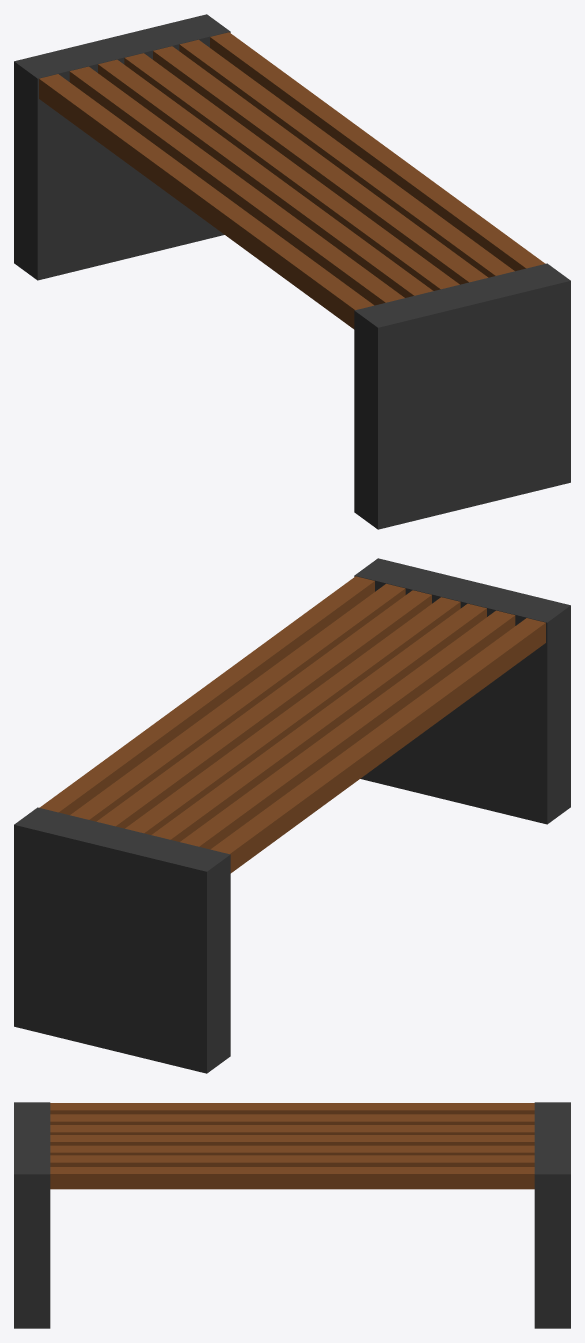
Rendered from longchair1.gltf.
3 renders of one model, top to bottom at view 1: azimuth 30°, elevation 25°; view 2: azimuth 150°, elevation 25°; view 3: azimuth 270°, elevation 25°, orthographic. The views are drawn at different scales.
Visible parts, largest first — view 1: 立方体, 立方体.001, 立方体.006, 立方体.008, 立方体.003, 立方体.005, 立方体.007, 立方体.002, 立方体.004; view 2: 立方体.001, 立方体, 立方体.006, 立方体.008, 立方体.003, 立方体.005, 立方体.007, 立方体.002, 立方体.004; view 3: 立方体.003, 立方体, 立方体.001, 立方体.004, 立方体.006, 立方体.002, 立方体.005, 立方体.008, 立方体.007.
Boxes of the visible parts, bbox=[...] form: 立方体: bbox=[354, 263, 570, 529]; 立方体.001: bbox=[14, 14, 230, 280]; 立方体.006: bbox=[39, 74, 374, 329]; 立方体.008: bbox=[69, 66, 404, 305]; 立方体.003: bbox=[210, 32, 545, 271]; 立方体.005: bbox=[153, 46, 488, 284]; 立方体.007: bbox=[98, 59, 433, 297]; 立方体.002: bbox=[124, 53, 459, 290]; 立方体.004: bbox=[179, 39, 514, 277]; 立方体.001: bbox=[14, 807, 230, 1073]; 立方体: bbox=[354, 558, 570, 824]; 立方体.006: bbox=[210, 618, 545, 873]; 立方体.008: bbox=[180, 610, 515, 849]; 立方体.003: bbox=[39, 576, 374, 815]; 立方体.005: bbox=[96, 590, 431, 828]; 立方体.007: bbox=[151, 603, 486, 841]; 立方体.002: bbox=[125, 597, 460, 834]; 立方体.004: bbox=[70, 583, 405, 821]; 立方体.003: bbox=[50, 1167, 534, 1189]; 立方体: bbox=[14, 1102, 50, 1328]; 立方体.001: bbox=[534, 1102, 570, 1328]; 立方体.004: bbox=[50, 1155, 534, 1166]; 立方体.006: bbox=[50, 1103, 534, 1114]; 立方体.002: bbox=[50, 1135, 534, 1145]; 立方体.005: bbox=[50, 1145, 534, 1155]; 立方体.008: bbox=[50, 1114, 534, 1124]; 立方体.007: bbox=[50, 1125, 534, 1134].
Bounding box in the file's own units: 0.5 × 0.5 × 1.63.
